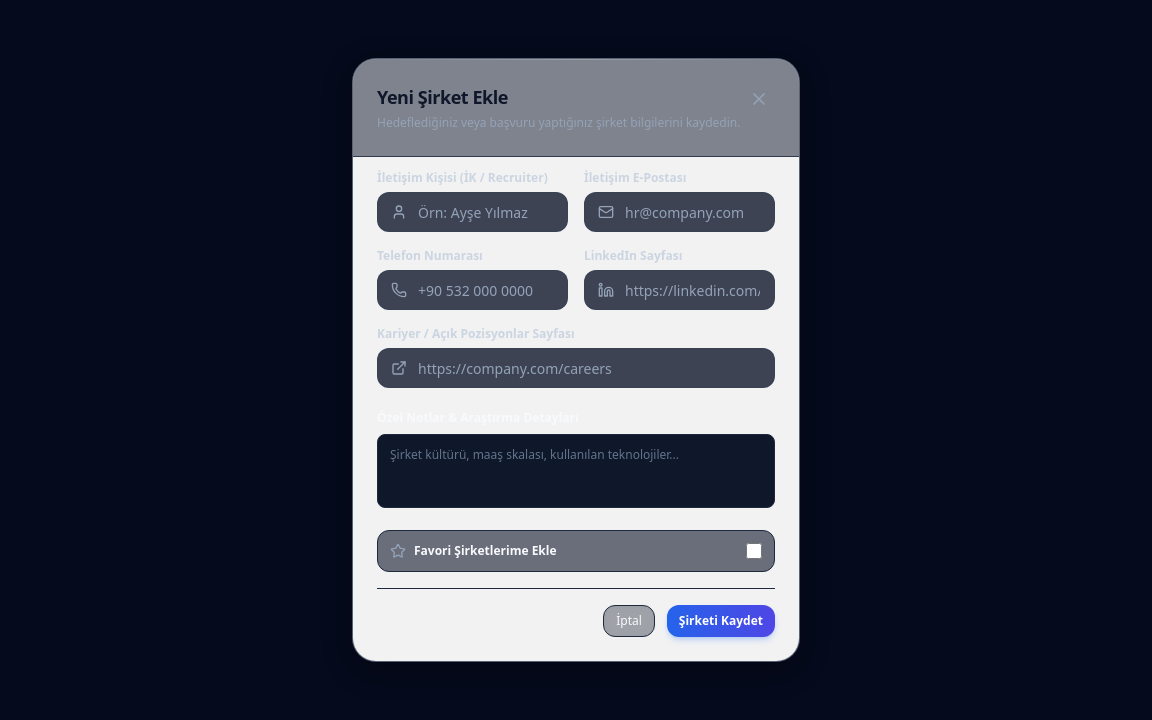
CreateCompanyModal Component › validates required fields on empty submit
The image size is (1152, 720).
(page scrolled)
Click the button "Şirketi Kaydet": coordinates (721, 621) [667,605,775,637]
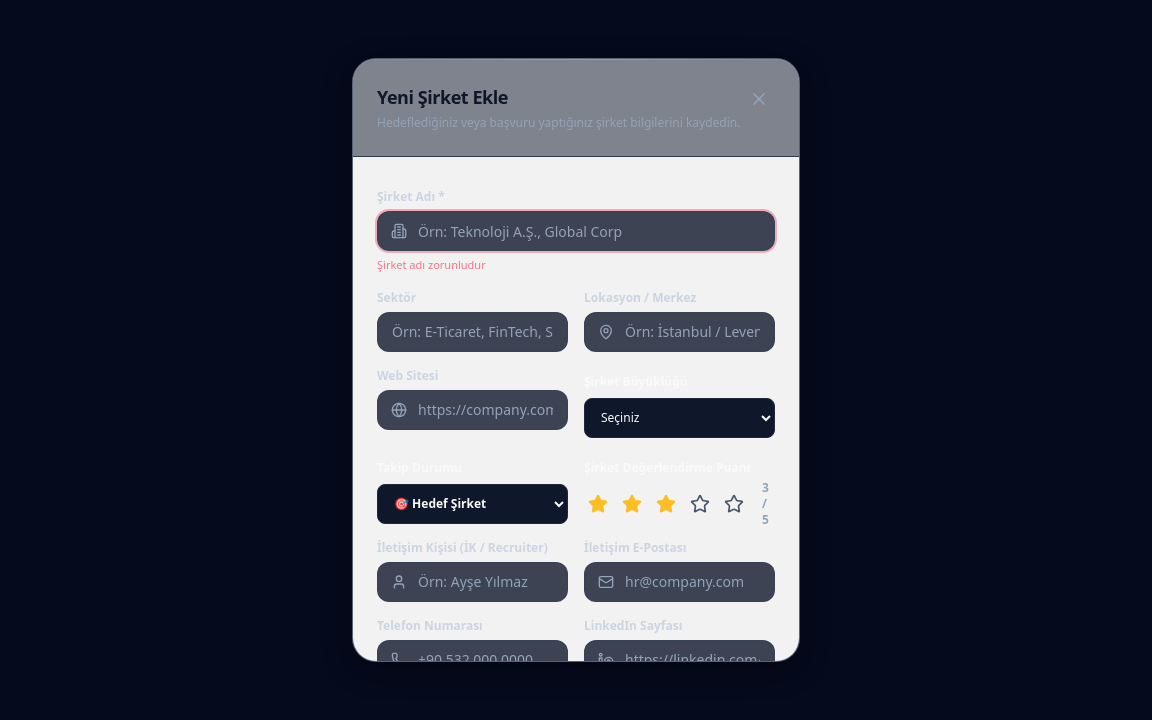
Result: the text "Şirket adı zorunludur" is shown at [377,257,486,272]
